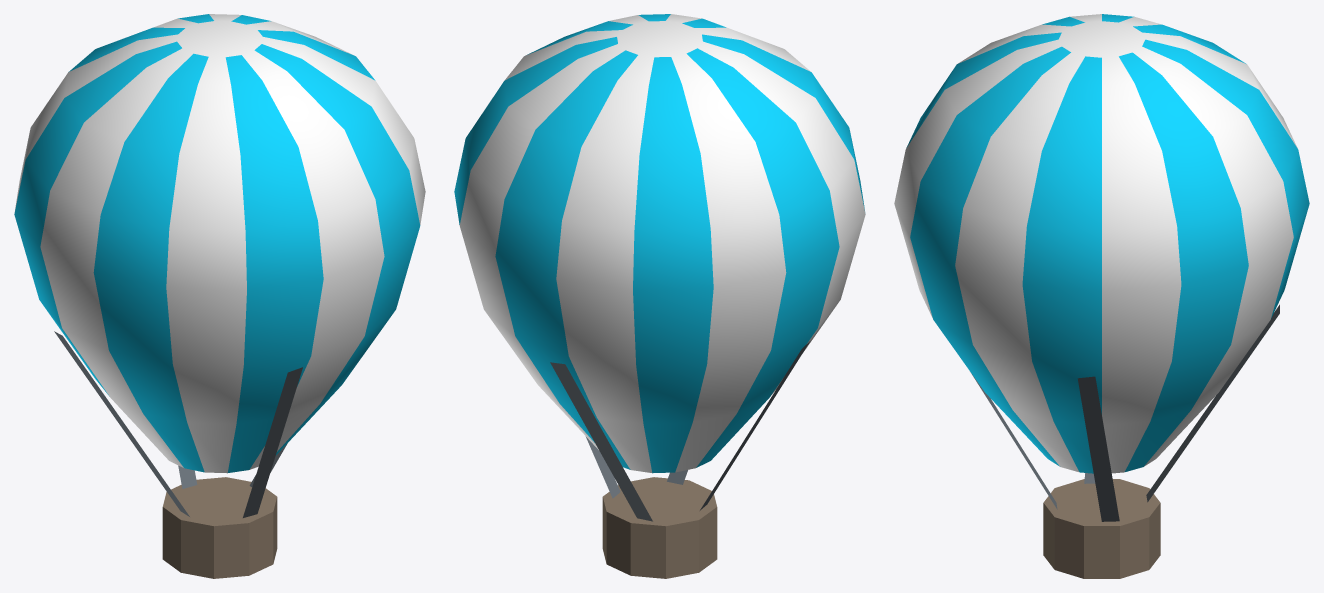
File: kikyuu2.fbx
The picture shows the model from 3 angles, left to right: view 1: azimuth 30°, elevation 25°; view 2: azimuth 150°, elevation 25°; view 3: azimuth 270°, elevation 25°; orthographic projection.
Parts seen in each view (by area): view 1: 球, 円柱, 平面; view 2: 球, 円柱, 平面; view 3: 球, 円柱, 平面.
Boxes of the visible parts, box(x1,y1,x2,y2) form: 球: box(14, 14, 425, 473); 円柱: box(162, 477, 277, 578); 平面: box(54, 331, 302, 517); 球: box(454, 14, 865, 473); 円柱: box(602, 477, 717, 578); 平面: box(550, 341, 809, 521); 球: box(894, 14, 1309, 473); 円柱: box(1043, 479, 1160, 578); 平面: box(970, 304, 1279, 521).
Bounding box in the file's own units: 233 × 319 × 233.
